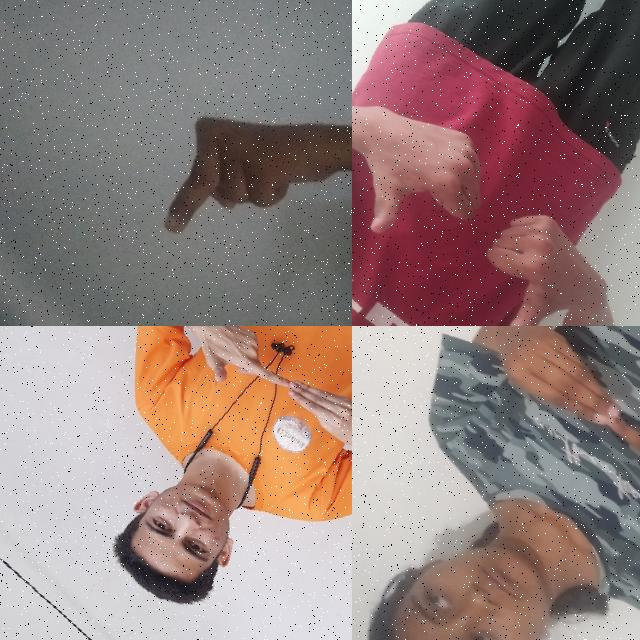Five Fathers: (449, 326, 640, 589), (169, 326, 352, 480)
Middle Finger: (134, 54, 352, 297)
Thumbs Up: (352, 81, 512, 276), (443, 189, 612, 326)
